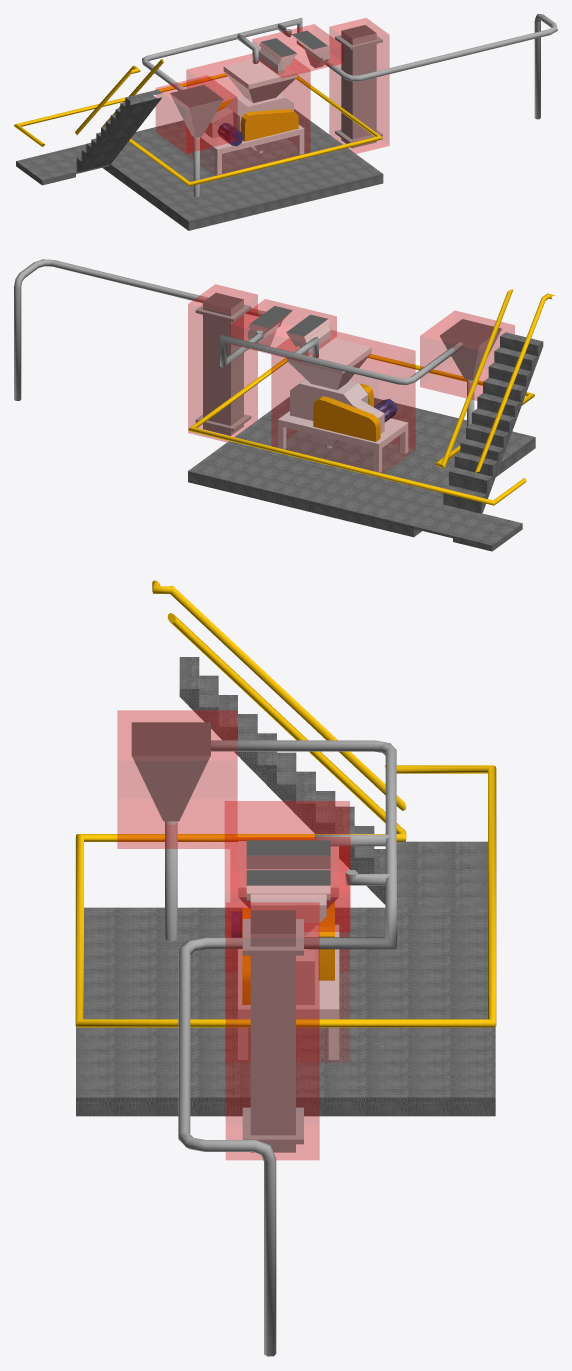
File: NST-1.5F.glb
The picture shows the model from 3 angles, top to bottom: view 1: azimuth 30°, elevation 25°; view 2: azimuth 150°, elevation 25°; view 3: azimuth 270°, elevation 25°; orthographic projection. The views are drawn at different scales.
Parts seen in each view (by area): view 1: floor-Box049, equipment-1-5M-rm-408, equipment-1-5M-be-406, equi-1-5M-rm-408, 1-5M, equipment-1-5M-bf-415R, pipe-1-5M-rm-408, 1-5M-be-406, equipment-1-5M-dm-407, 1-5M-dm-407, equi-1-5M-bf-415F; view 2: floor-Box049, equipment-1-5M-rm-408, 1-5M, equi-1-5M-rm-408, equipment-1-5M-be-406, pipe-1-5M-rm-408, 1-5M-be-406, equipment-1-5M-bf-415R, equipment-1-5M-dm-407, equi-1-5M-bf-415F, 1-5M-dm-407; view 3: floor-Box049, 1-5M, equipment-1-5M-be-406, equipment-1-5M-bf-415R, pipe-1-5M-rm-408, 1-5M-be-406, equipment-1-5M-rm-408, equipment-1-5M-dm-407, equi-1-5M-rm-408, 1-5M-dm-407, equi-1-5M-bf-415F.
Boxes of the visible parts, x1,y1,x2,y2 form: floor-Box049: [16, 109, 383, 230]; equipment-1-5M-rm-408: [186, 54, 310, 175]; equipment-1-5M-be-406: [329, 18, 389, 153]; equi-1-5M-rm-408: [192, 59, 304, 174]; 1-5M: [14, 59, 382, 186]; equipment-1-5M-bf-415R: [156, 75, 237, 153]; pipe-1-5M-rm-408: [142, 14, 557, 197]; 1-5M-be-406: [335, 25, 382, 148]; equipment-1-5M-dm-407: [252, 24, 343, 77]; 1-5M-dm-407: [259, 30, 329, 74]; equi-1-5M-bf-415F: [170, 85, 223, 137]; floor-Box049: [188, 397, 535, 551]; equipment-1-5M-rm-408: [271, 330, 415, 472]; 1-5M: [188, 289, 555, 513]; equi-1-5M-rm-408: [278, 337, 408, 472]; equipment-1-5M-be-406: [188, 284, 257, 442]; pipe-1-5M-rm-408: [14, 259, 474, 448]; 1-5M-be-406: [195, 292, 251, 435]; equipment-1-5M-bf-415R: [420, 311, 514, 400]; equipment-1-5M-dm-407: [230, 299, 336, 361]; equi-1-5M-bf-415F: [439, 319, 501, 380]; 1-5M-dm-407: [248, 306, 330, 355]; floor-Box049: [76, 841, 495, 1116]; 1-5M: [75, 580, 496, 1027]; equipment-1-5M-be-406: [226, 902, 319, 1159]; equipment-1-5M-bf-415R: [117, 710, 237, 848]; pipe-1-5M-rm-408: [165, 740, 397, 1356]; 1-5M-be-406: [242, 910, 303, 1152]; equipment-1-5M-rm-408: [225, 801, 349, 1061]; equipment-1-5M-dm-407: [230, 837, 350, 931]; equi-1-5M-rm-408: [231, 841, 339, 1059]; 1-5M-dm-407: [246, 840, 330, 936]; equi-1-5M-bf-415F: [131, 722, 210, 821].
Size of the model in its own units: 10.34 by 3.68 by 4.01.
Materials: 9 (2 with a texture image).
